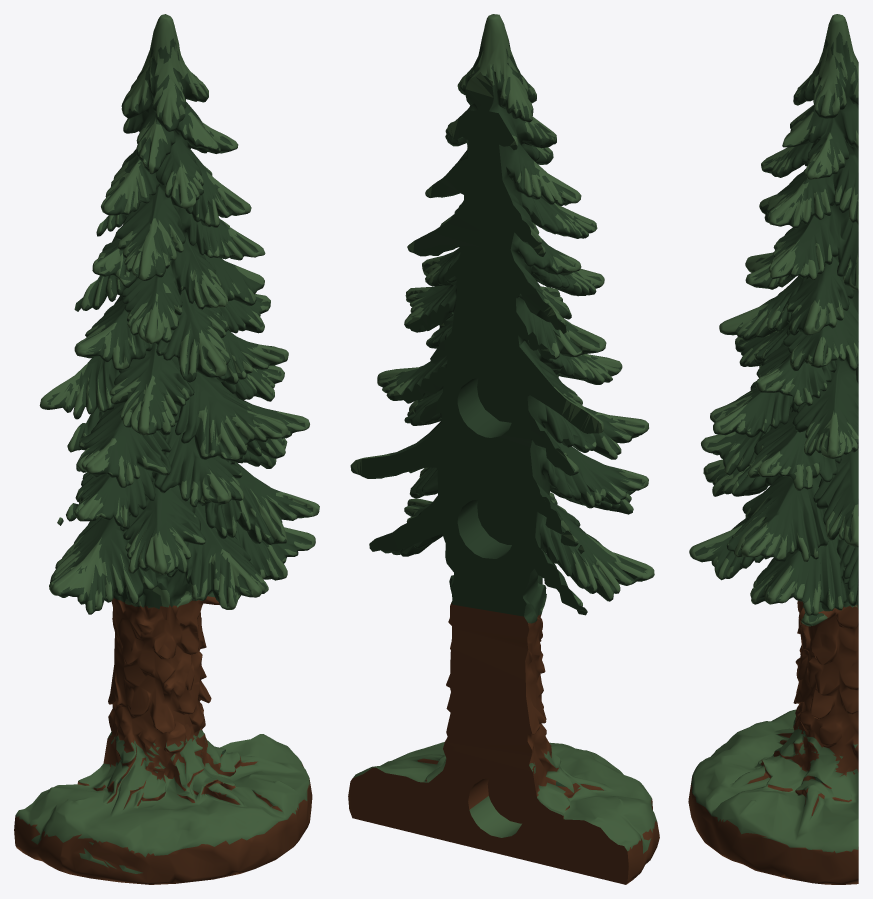
The model's file is sitka-spruce-magnet.glb.
The picture shows the model from 3 angles, left to right: view 1: azimuth 30°, elevation 25°; view 2: azimuth 150°, elevation 25°; view 3: azimuth 270°, elevation 25°; orthographic projection. The views are drawn at different scales.
Parts seen in each view (by area): view 1: magnet; view 2: magnet; view 3: magnet.
Boxes of the visible parts, x1,y1,x2,y2 form: magnet: [14, 14, 319, 884]; magnet: [348, 14, 659, 884]; magnet: [688, 14, 858, 884].
Size of the model in its own units: 26.65 by 74.96 by 14.34.
